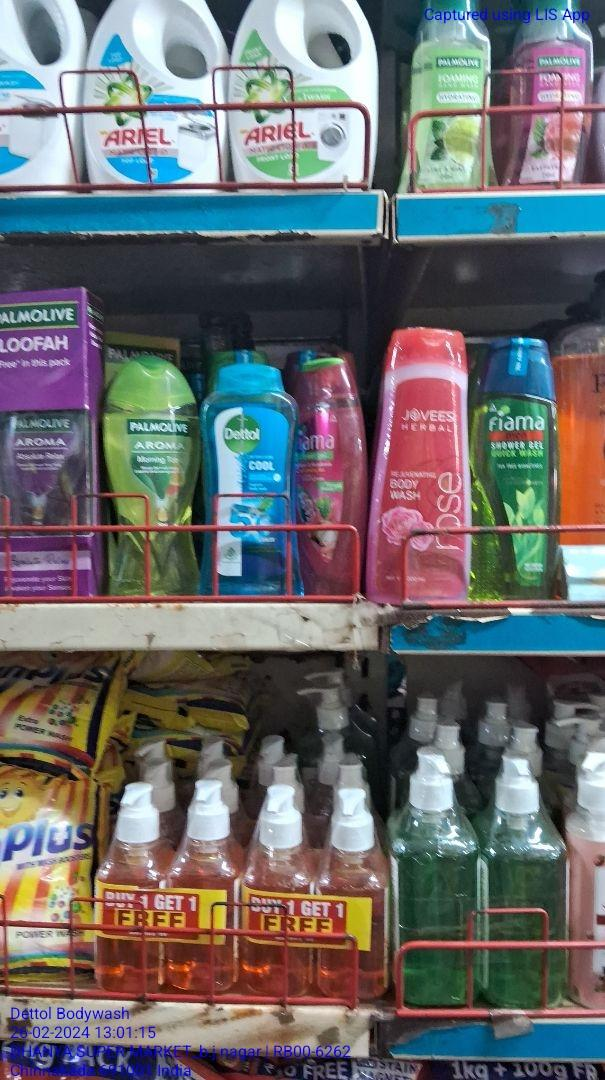Dettol_Bodywash_Cool: (202, 356, 299, 601)
Fiama_Shower_Gel_Patchouli_and_Macadamia_250ML: (298, 358, 366, 594)
Palmolive_Aroma_Morning_Tonic_Shower_Gel_250ML: (103, 355, 198, 598)
